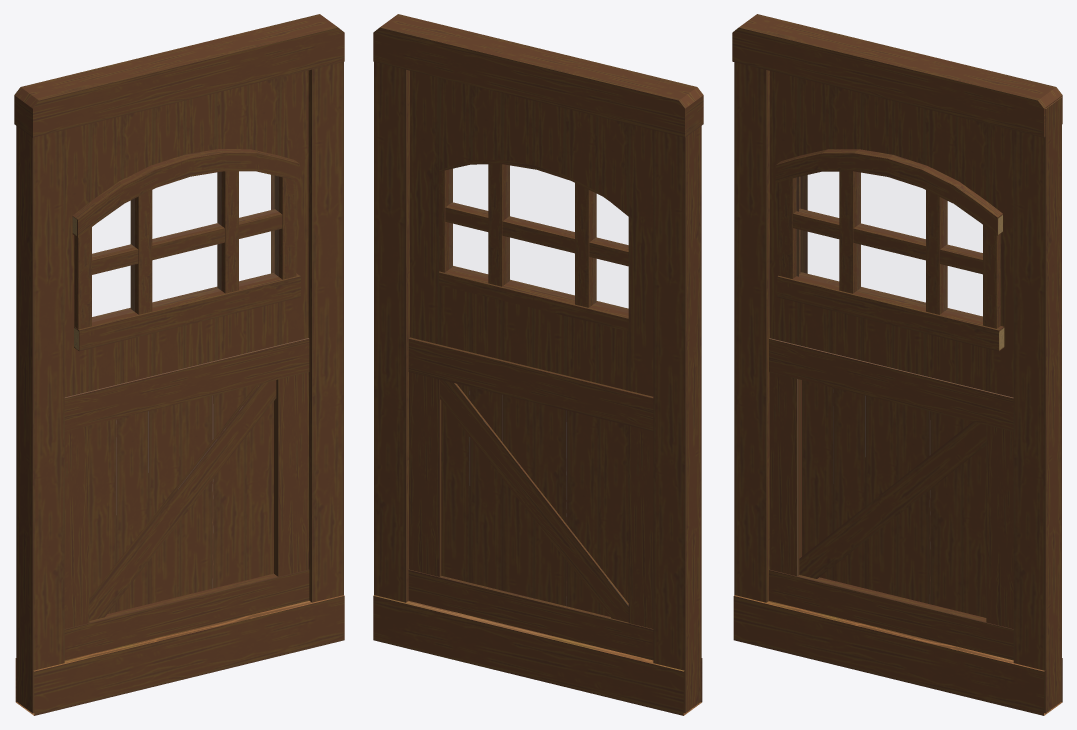
The model's file is Door_1_Flat.obj.
3 renders of one model, left to right at view 1: azimuth 30°, elevation 25°; view 2: azimuth 150°, elevation 25°; view 3: azimuth 330°, elevation 25°, orthographic.
Visible parts, largest first — view 1: Door_1_Flat; view 2: Door_1_Flat; view 3: Door_1_Flat.
Boxes of the visible parts, box(x1,y1,x2,y2) form: Door_1_Flat: box(14, 14, 344, 715); Door_1_Flat: box(373, 14, 703, 715); Door_1_Flat: box(732, 14, 1062, 715).
Bounding box in the file's own units: 1.12 × 2.1 × 0.1207.
